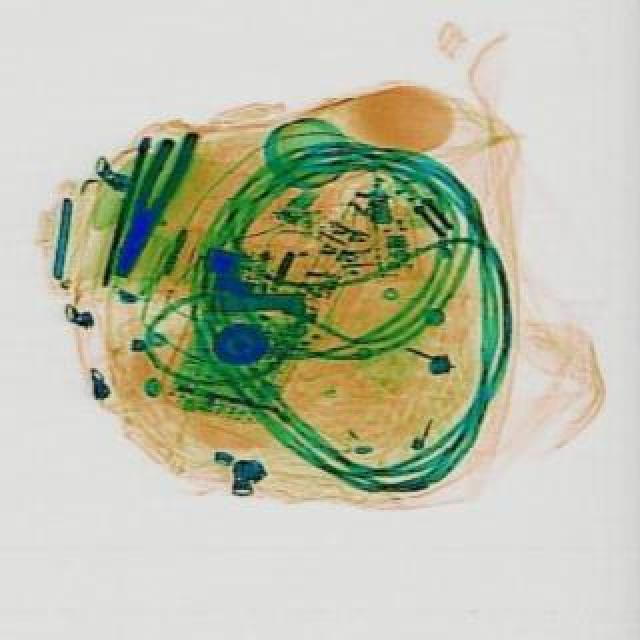wrench: (110, 128, 206, 288)
